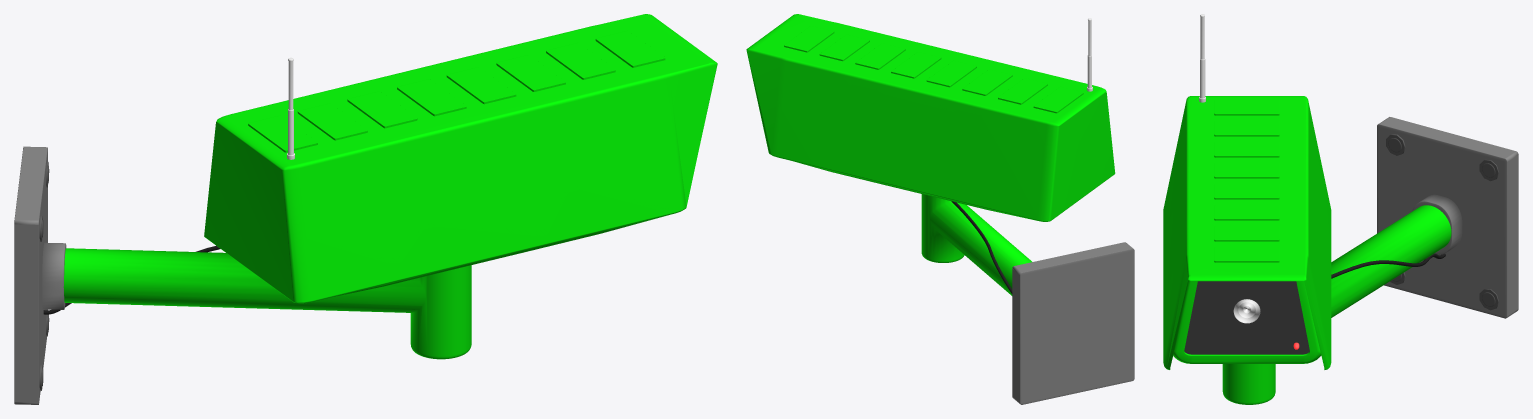
3 renders of one model, left to right at view 1: azimuth 30°, elevation 25°; view 2: azimuth 150°, elevation 25°; view 3: azimuth 270°, elevation 25°, orthographic. The views are drawn at different scales.
Parts seen in each view (by area): view 1: Cubo, Cilindro.002, Cubo.003, Cilindro; view 2: Cubo, Cubo.003, Cilindro.002, Curva Bezier; view 3: Cubo, Cubo.003, Cilindro.002, Cube.002, Cube.003, Cube.000, Curva Bezier, Cilindro, Cilindro.010, Cilindro.009, Cilindro.012.
Part boxes in pixels (x1=…): Cubo: x1=204, y1=14, x2=717, y2=303; Cilindro.002: x1=63, y1=248, x2=471, y2=359; Cubo.003: x1=14, y1=146, x2=66, y2=404; Cilindro: x1=287, y1=57, x2=294, y2=159; Cubo: x1=746, y1=14, x2=1115, y2=221; Cubo.003: x1=1012, y1=242, x2=1134, y2=404; Cilindro.002: x1=921, y1=194, x2=1031, y2=295; Curva Bezier: x1=951, y1=201, x2=1012, y2=293; Cubo: x1=1163, y1=96, x2=1331, y2=369; Cubo.003: x1=1377, y1=117, x2=1518, y2=318; Cilindro.002: x1=1222, y1=205, x2=1451, y2=404; Cube.002: x1=1184, y1=281, x2=1309, y2=354; Cube.003: x1=1173, y1=281, x2=1321, y2=363; Cube.000: x1=1233, y1=299, x2=1260, y2=323; Curva Bezier: x1=1331, y1=253, x2=1445, y2=278; Cilindro: x1=1199, y1=14, x2=1205, y2=102; Cilindro.010: x1=1386, y1=134, x2=1405, y2=155; Cilindro.009: x1=1479, y1=159, x2=1498, y2=181; Cilindro.012: x1=1479, y1=288, x2=1498, y2=310.
Size of the model in its own units: 9.59 by 5.97 by 5.77.
